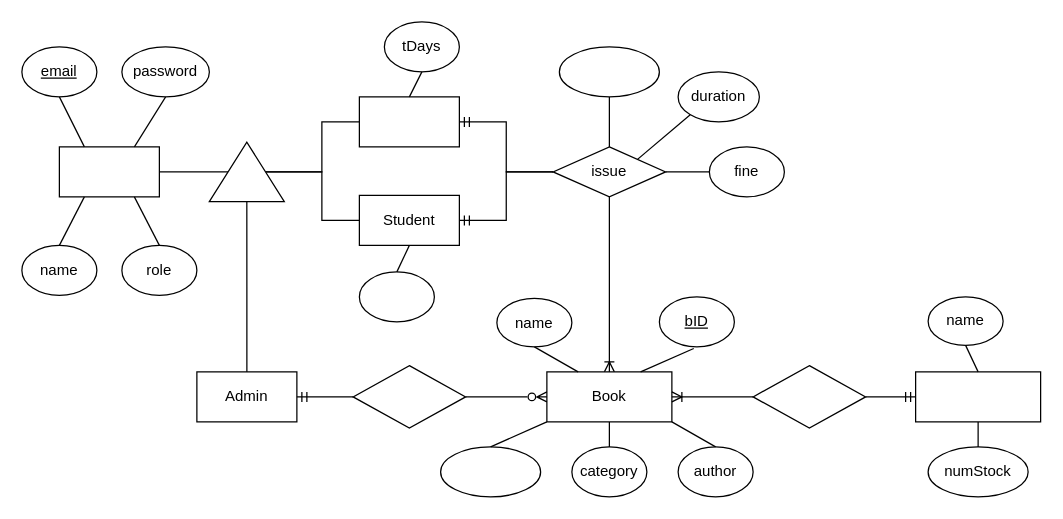
Some shapes in this 1063 by 519 pixel diagram are drawn without their labels. Each missing label, with the centre of its shape:
"availability" belongs at (x=490, y=471).
"ISA" belongs at (x=246, y=171).
"issueDate" belongs at (x=608, y=71).
"modify" belongs at (x=409, y=396).
"sDays" belongs at (x=396, y=296).
"Stock" belongs at (x=977, y=396).
"Teacher" belongs at (x=408, y=121).
"update" belongs at (x=809, y=396).
"User" belongs at (x=108, y=171).
